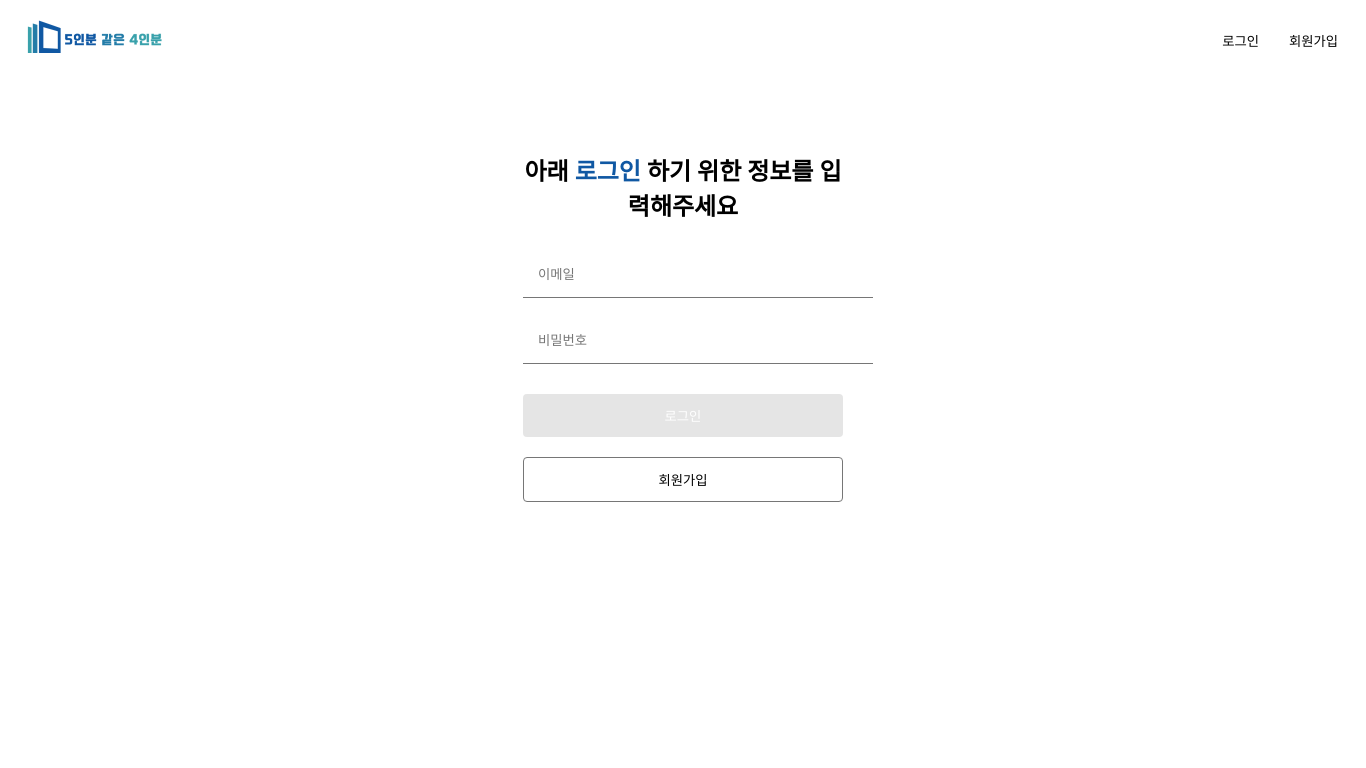
it: 계좌정보 입력 페이지 › API 실패 시 오류 메시지를 표시
The width and height of the screenshot is (1366, 768).
In the field with placeholder "이메일": (698,275) [523, 252, 873, 298], type "test@example.com"
In the password field with placeholder "비밀번호": (698,341) [523, 318, 873, 364], type "password123"
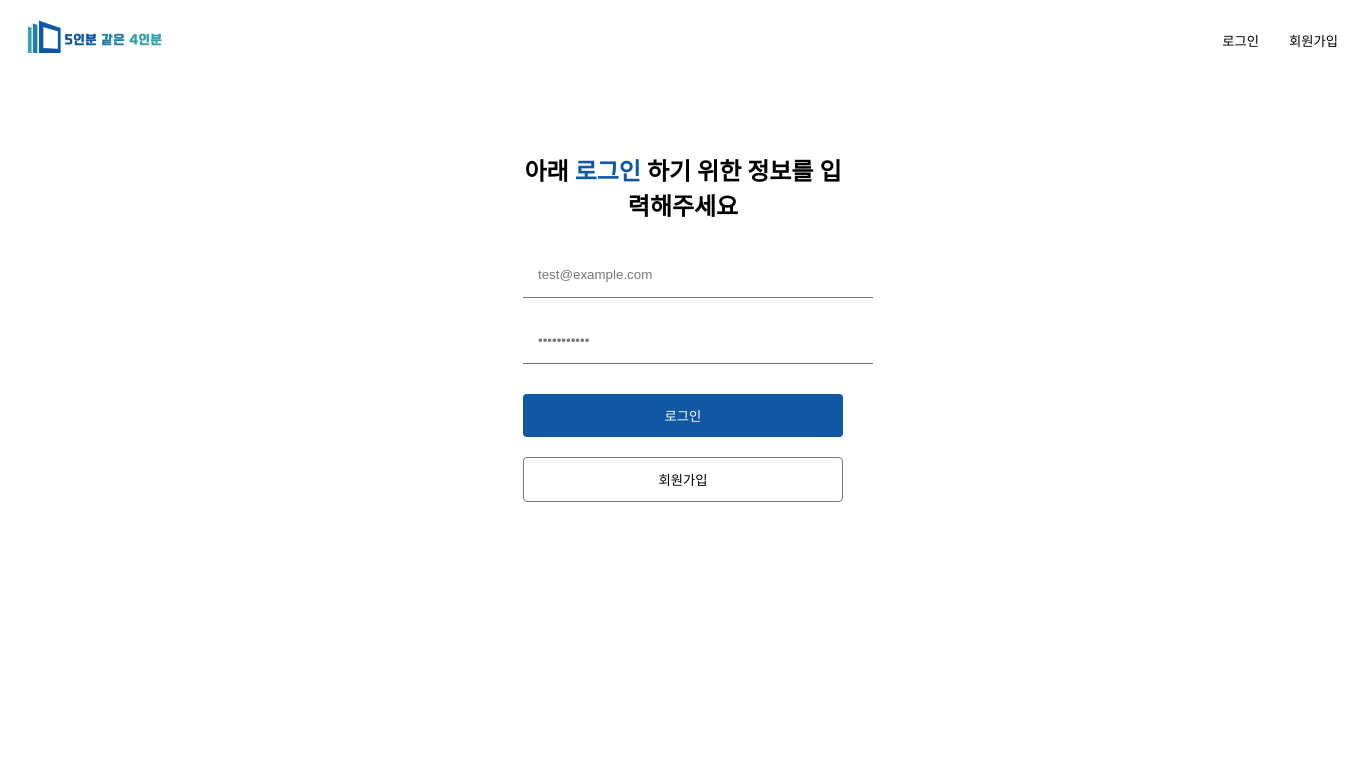
Click the submit button: (683,416) [523, 394, 843, 437]
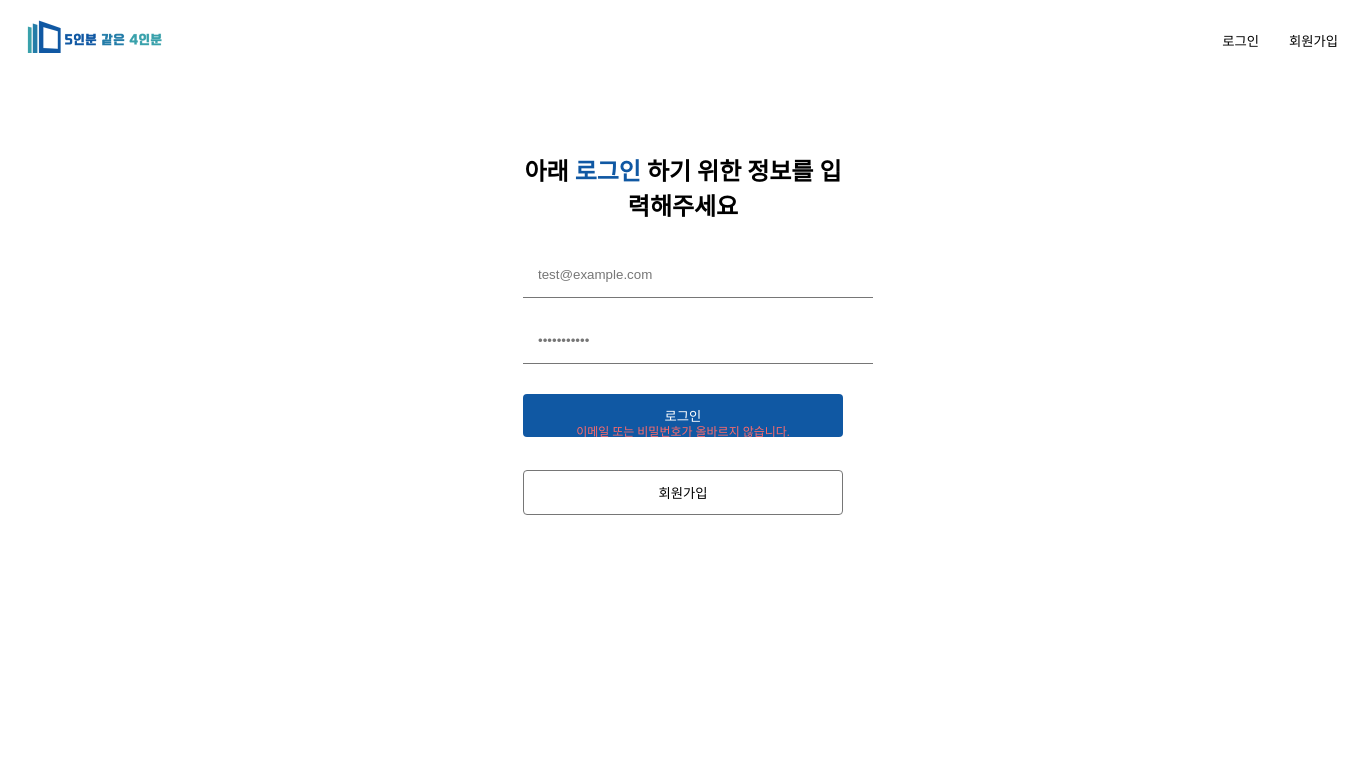
Open "/accounts/:contractId"
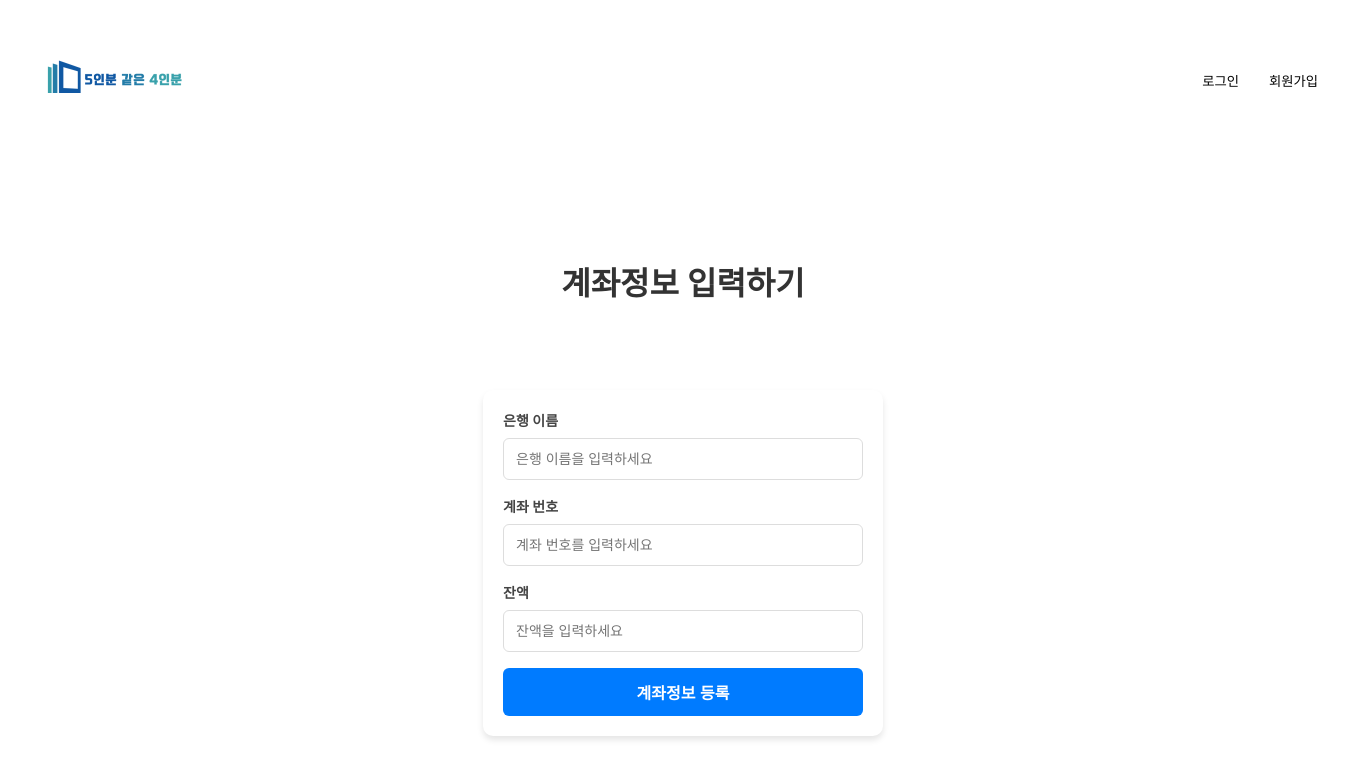
In the field with placeholder "은행 이름을 입력하세요": (683,459) [503, 438, 863, 480], type "테스트은행"
In the field with placeholder "계좌 번호를 입력하세요": (683,545) [503, 524, 863, 566], type "1234567890"
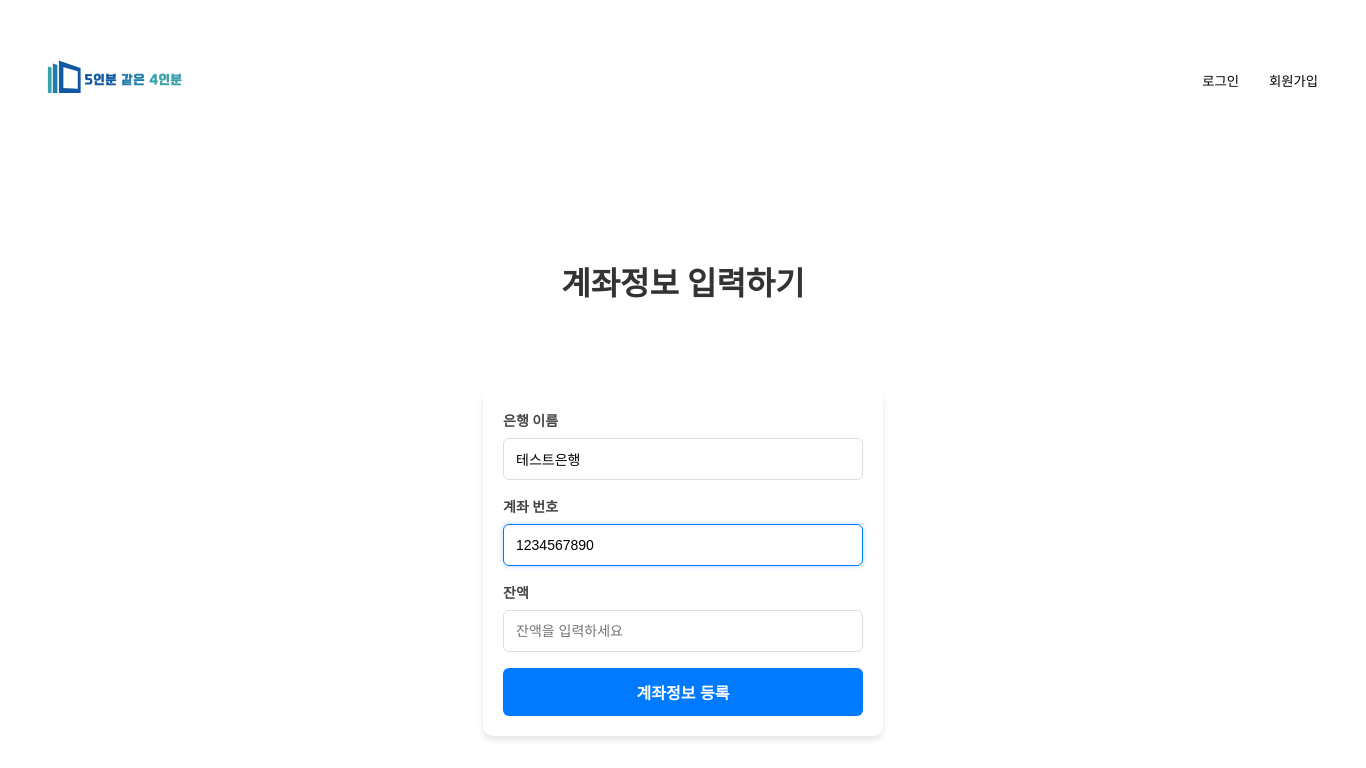
In the number field with placeholder "잔액을 입력하세요": (683,631) [503, 610, 863, 652], type "100000"
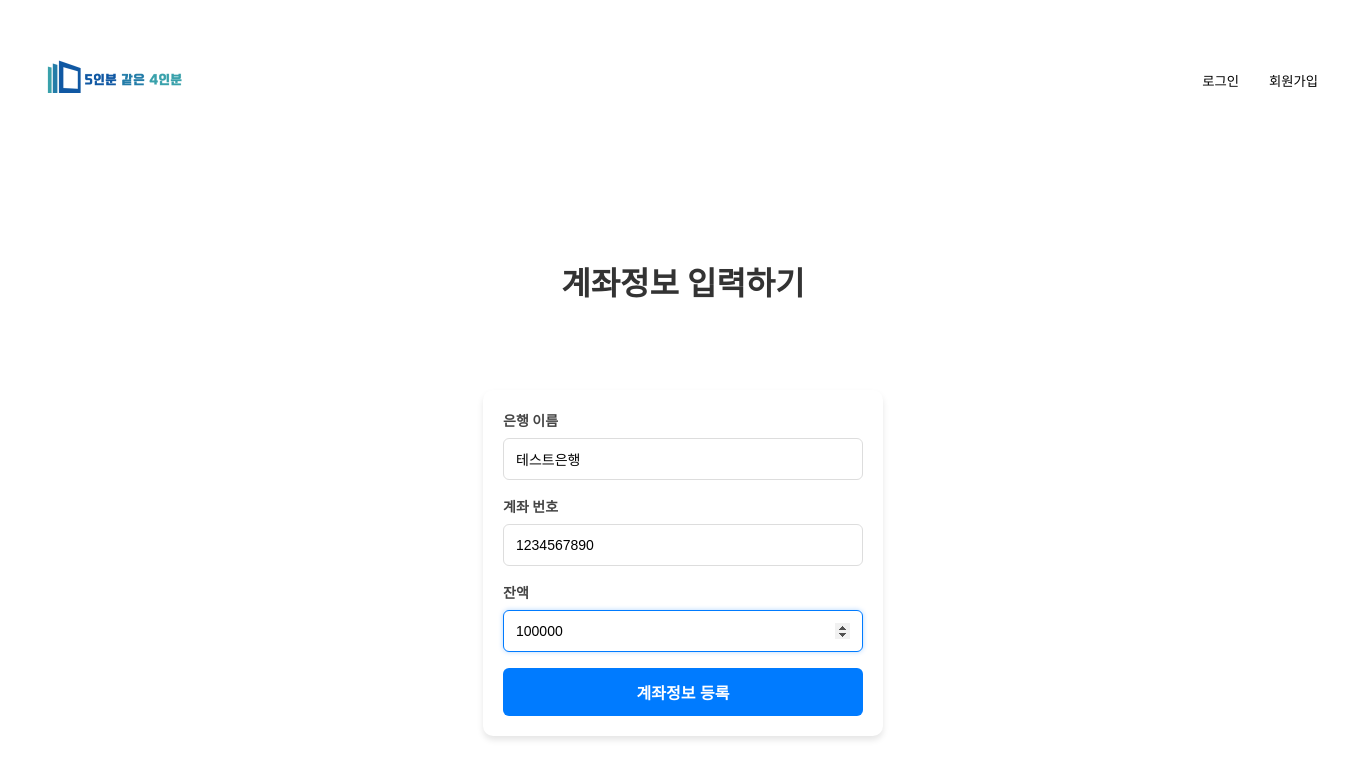
Click the submit button: (683,692) [503, 668, 863, 716]
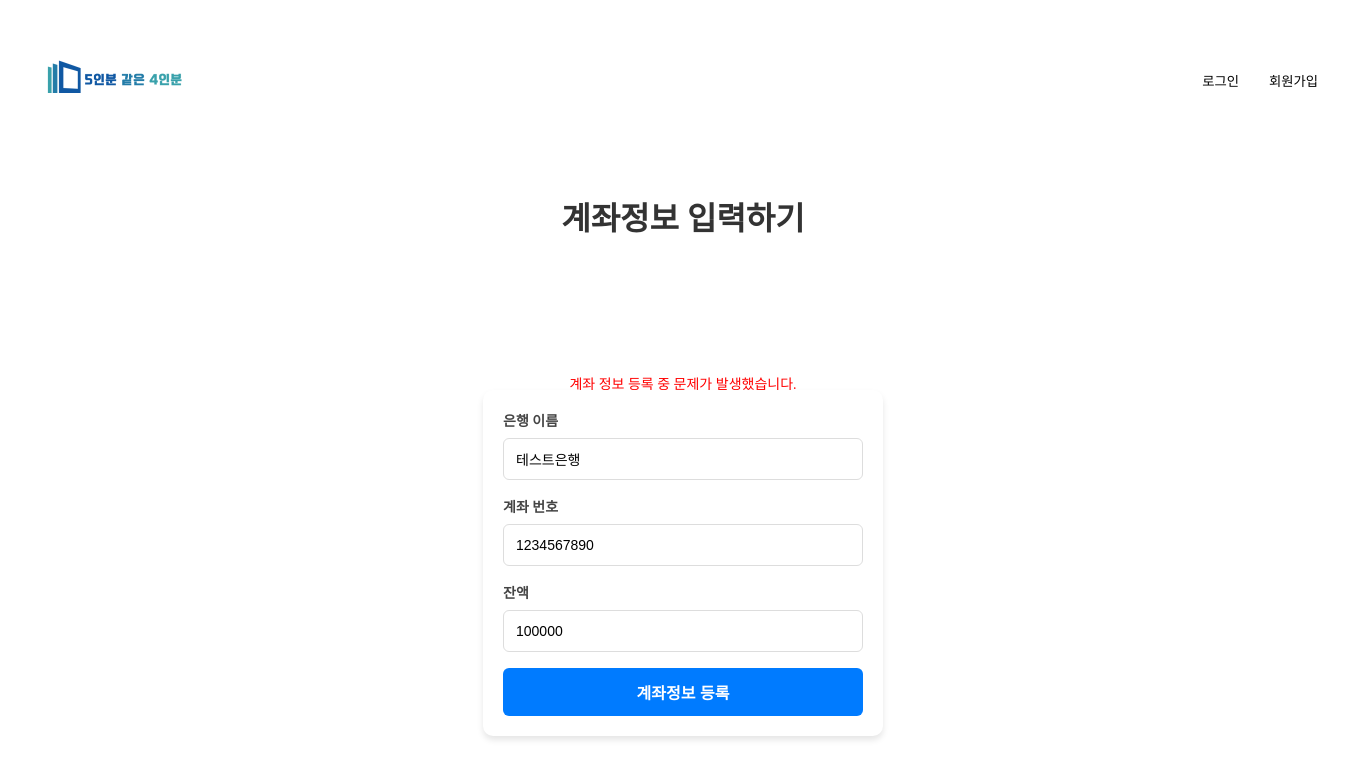
Expected: the text "계좌 정보 등록 중 문제가 발생했습니다." is shown, [570, 377, 797, 392]
